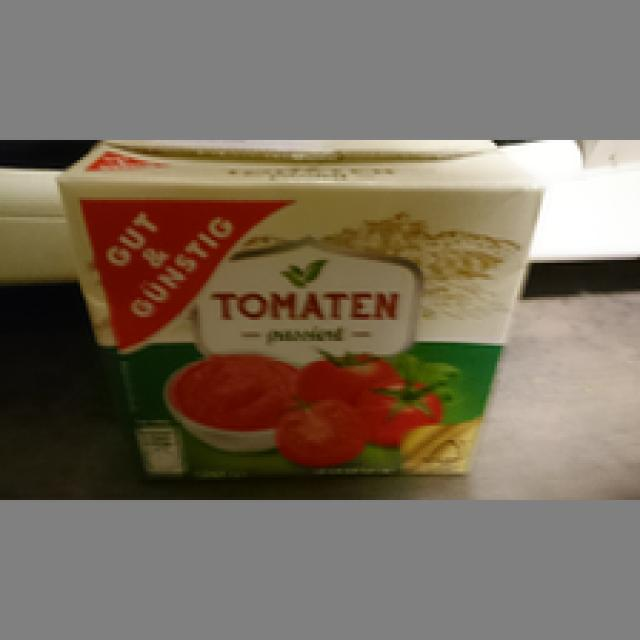groceries: (51, 140, 546, 477)
